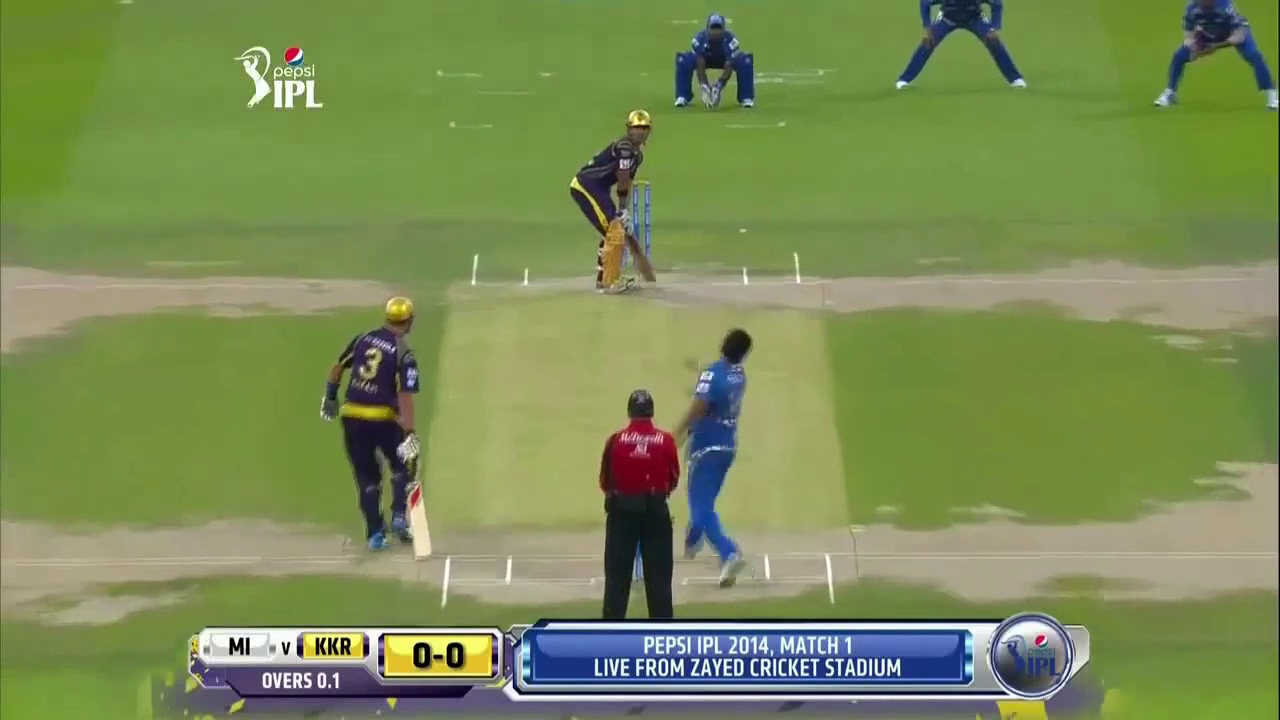bat: (405, 480, 434, 559)
